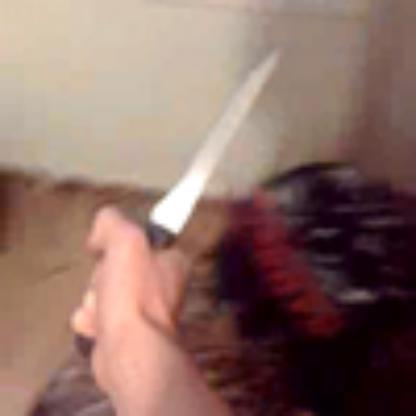knives: (75, 37, 291, 353)
